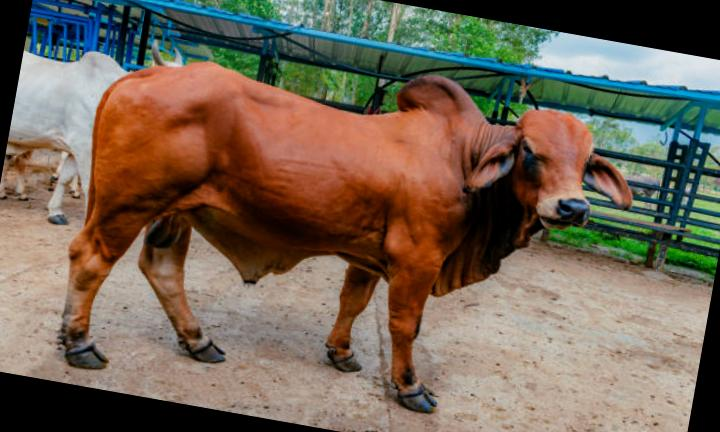Brahman: (60, 62, 631, 411)
